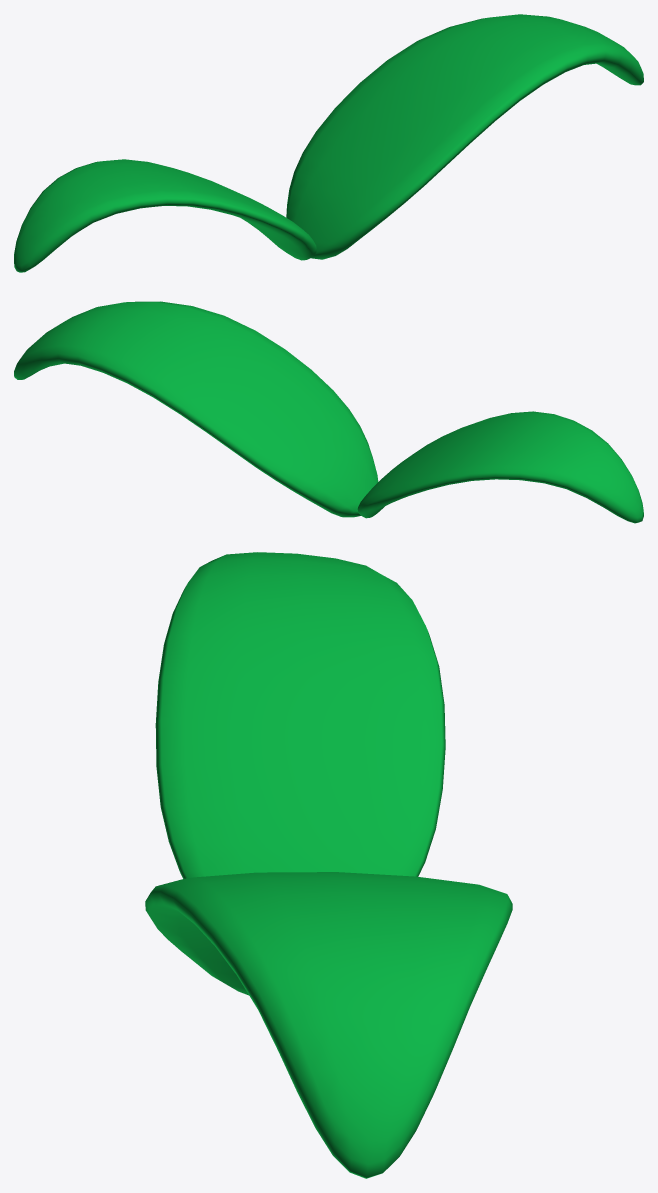
File: Town_13_Grass_2.glb
The picture shows the model from 3 angles, top to bottom: view 1: azimuth 30°, elevation 25°; view 2: azimuth 150°, elevation 25°; view 3: azimuth 270°, elevation 25°; orthographic projection. The views are drawn at different scales.
Parts seen in each view (by area): view 1: Town_13_Grass_2; view 2: Town_13_Grass_2; view 3: Town_13_Grass_2.
Boxes of the visible parts, x1,y1,x2,y2 form: Town_13_Grass_2: (14, 14, 643, 272); Town_13_Grass_2: (14, 301, 643, 523); Town_13_Grass_2: (145, 552, 512, 1178).
Bounding box in the file's own units: 0.5343 × 0.1253 × 0.1406.
1 material, 1 textured.
